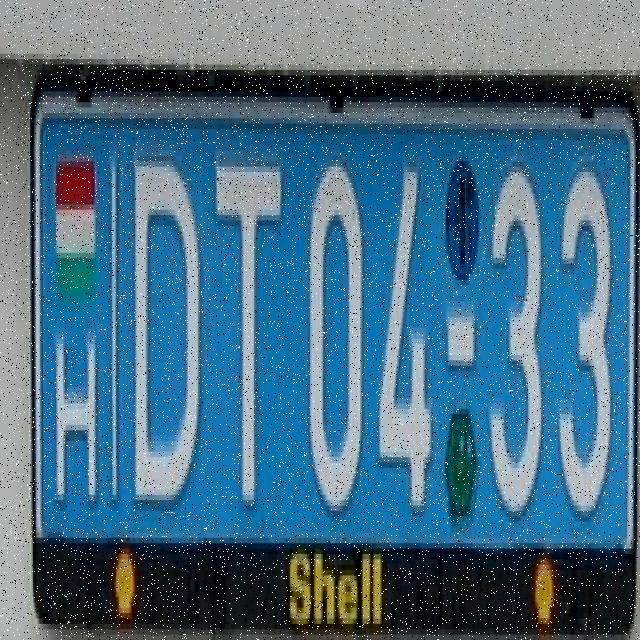licenseplate: (18, 14, 640, 640)
